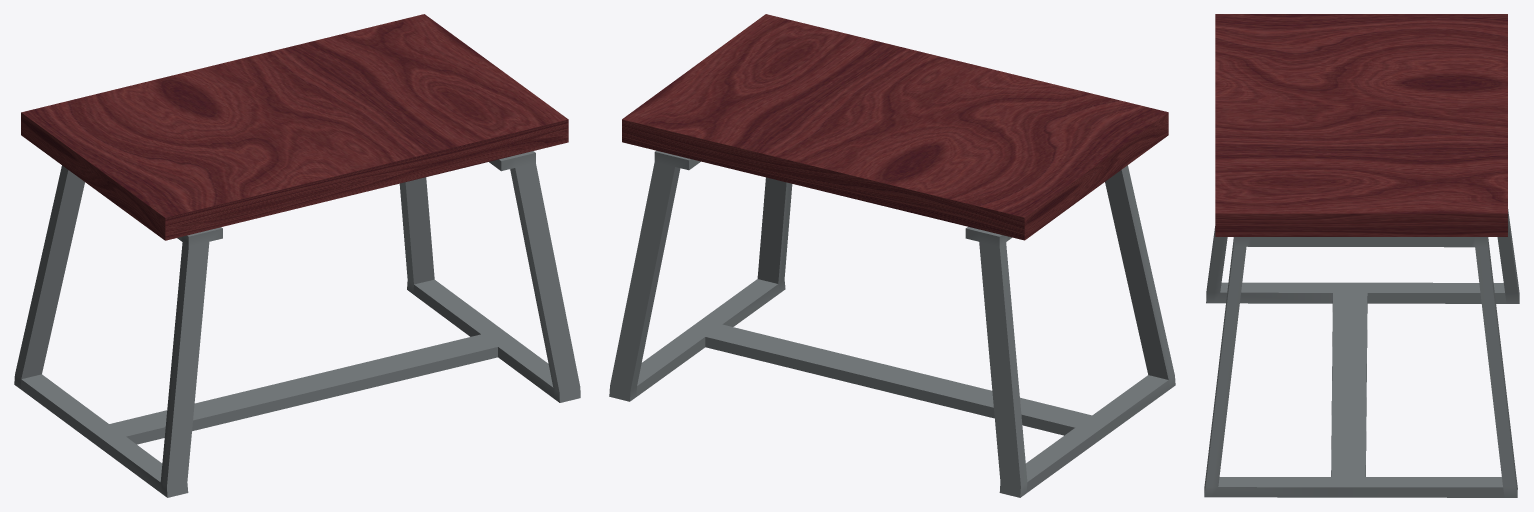
The model's file is table_fancy.fbx.
The picture shows the model from 3 angles, left to right: view 1: azimuth 30°, elevation 25°; view 2: azimuth 150°, elevation 25°; view 3: azimuth 270°, elevation 25°; orthographic projection.
Parts seen in each view (by area): view 1: fancy_table; view 2: fancy_table; view 3: fancy_table.
Part boxes in pixels (x1,y1,x2,y2): fancy_table: (14,14,580,497); fancy_table: (609,14,1175,497); fancy_table: (1204,14,1519,497).
Size of the model in its own units: 1.58 by 1.01 by 1.03.
